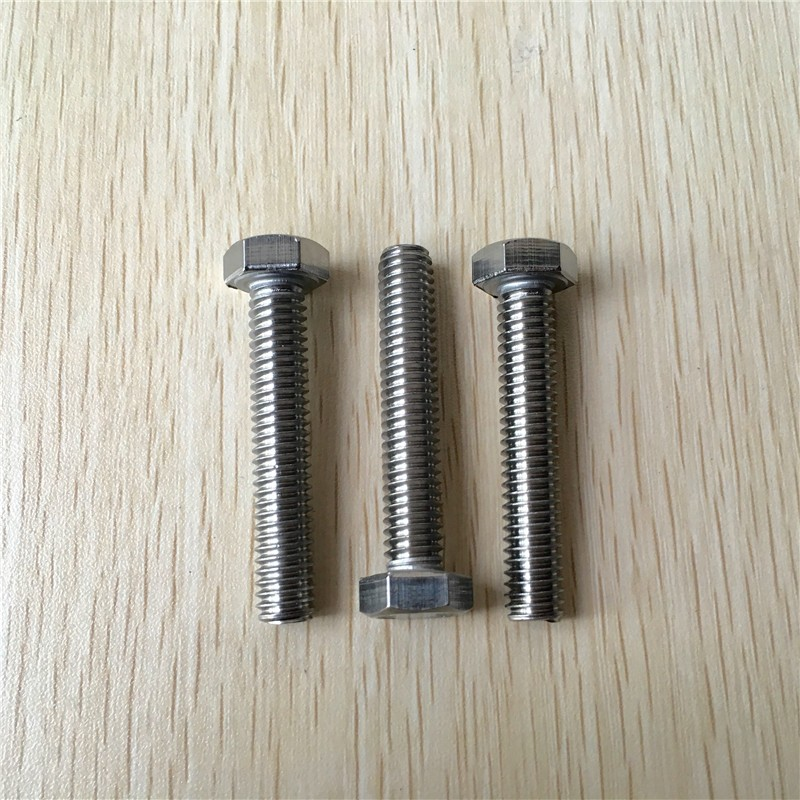screw: (358, 244, 476, 617), (223, 234, 331, 626), (472, 238, 580, 623)
